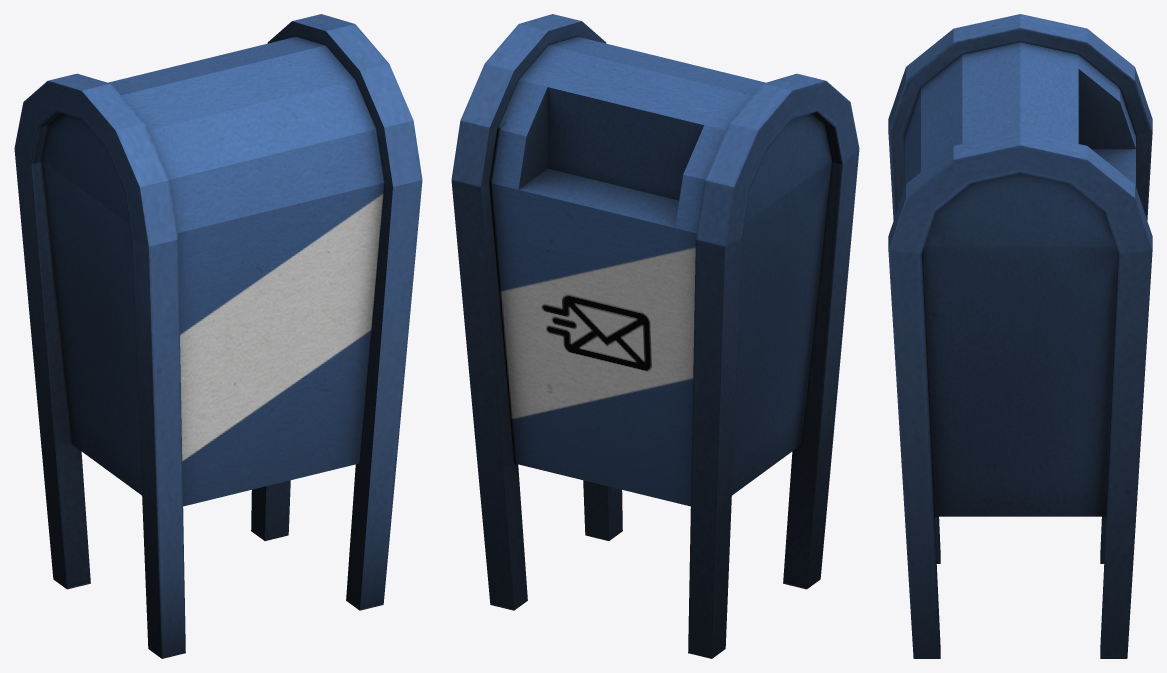
Rendered from Prop_PostBox.FBX.
The picture shows the model from 3 angles, left to right: view 1: azimuth 30°, elevation 25°; view 2: azimuth 150°, elevation 25°; view 3: azimuth 270°, elevation 25°; orthographic projection.
Parts seen in each view (by area): view 1: Prop_PostBox; view 2: Prop_PostBox; view 3: Prop_PostBox.
Boxes of the visible parts, x1,y1,x2,y2 form: Prop_PostBox: [14, 14, 422, 658]; Prop_PostBox: [451, 14, 859, 658]; Prop_PostBox: [888, 14, 1152, 658].
Size of the model in its own units: 73.33 by 137 by 62.29.
